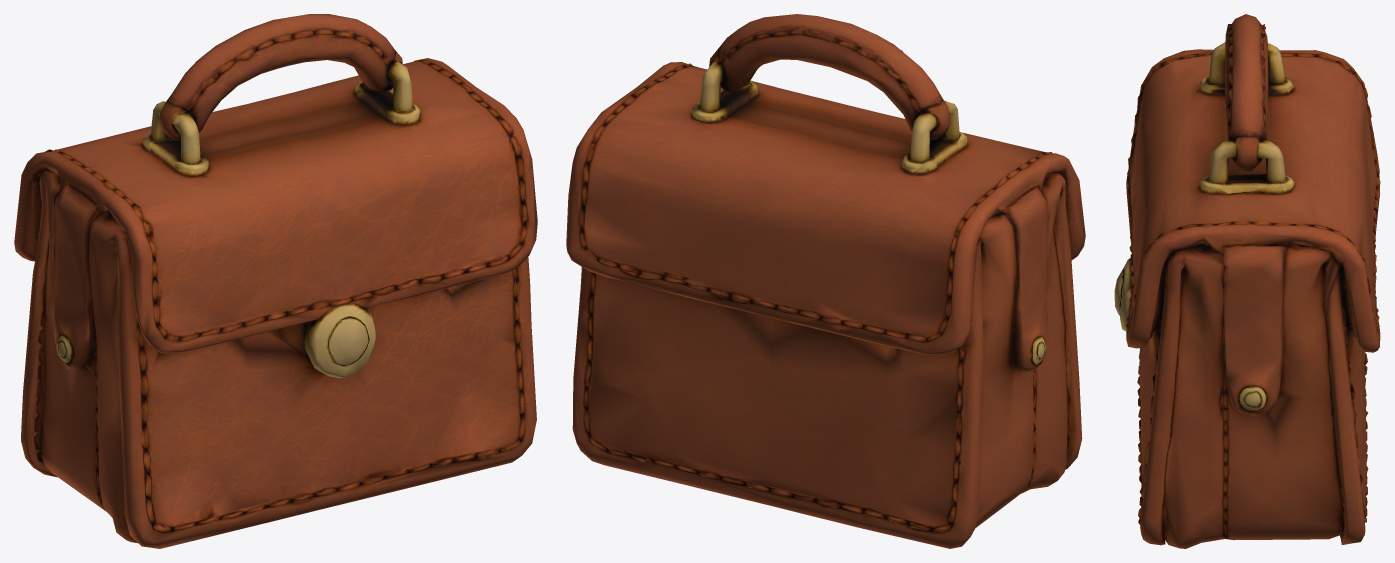
File: bag.glb
3 views of the same model, side by side, from view 1: azimuth 30°, elevation 25°; view 2: azimuth 150°, elevation 25°; view 3: azimuth 270°, elevation 25° (orthographic). The views are drawn at different scales.
Parts seen in each view (by area): view 1: tripo_node_3a8b3ab3-f365-4650-b955-2e76b59f53df; view 2: tripo_node_3a8b3ab3-f365-4650-b955-2e76b59f53df; view 3: tripo_node_3a8b3ab3-f365-4650-b955-2e76b59f53df.
Part boxes in pixels (box(x1,y1,x2,y2)): tripo_node_3a8b3ab3-f365-4650-b955-2e76b59f53df: box(14, 14, 537, 548); tripo_node_3a8b3ab3-f365-4650-b955-2e76b59f53df: box(566, 14, 1085, 548); tripo_node_3a8b3ab3-f365-4650-b955-2e76b59f53df: box(1114, 14, 1380, 548).
Bounding box in the file's own units: 0.9821 × 0.9753 × 0.5422.
1 material, 1 textured.
